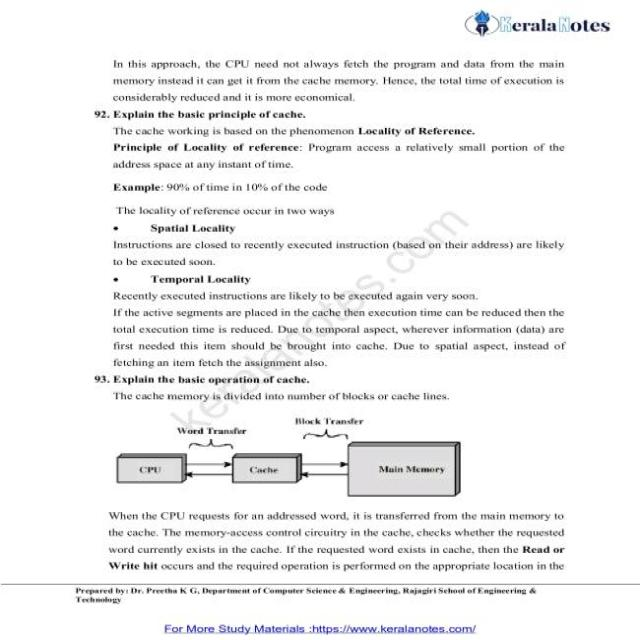Figure Detection - v3 Dataset Version2: (108, 407, 476, 502)
